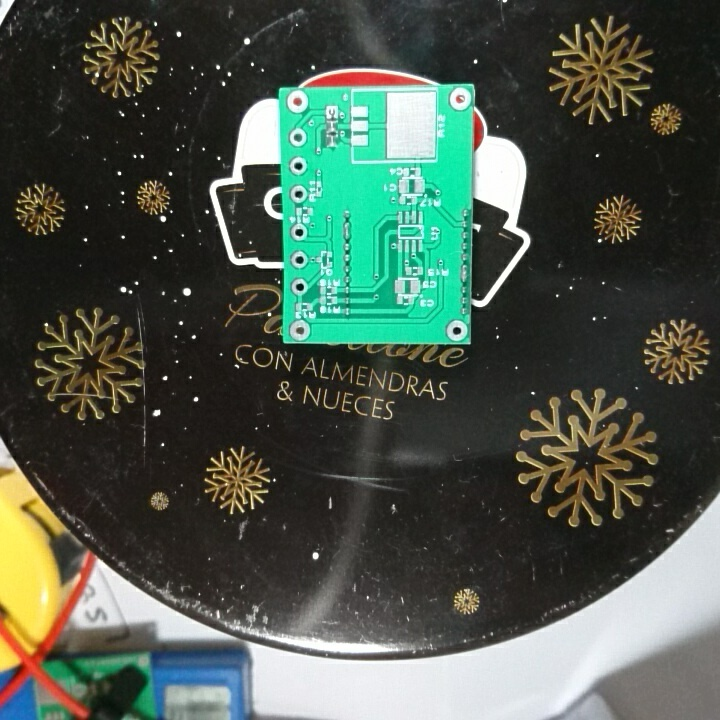F: (284, 86, 312, 118), (447, 84, 472, 113), (288, 317, 315, 340), (444, 318, 468, 343), (287, 123, 310, 149), (288, 220, 310, 245), (287, 155, 310, 177), (289, 249, 310, 272), (290, 275, 310, 298), (288, 182, 307, 206), (322, 102, 341, 120)
P: (341, 220, 356, 243), (458, 262, 470, 283)
